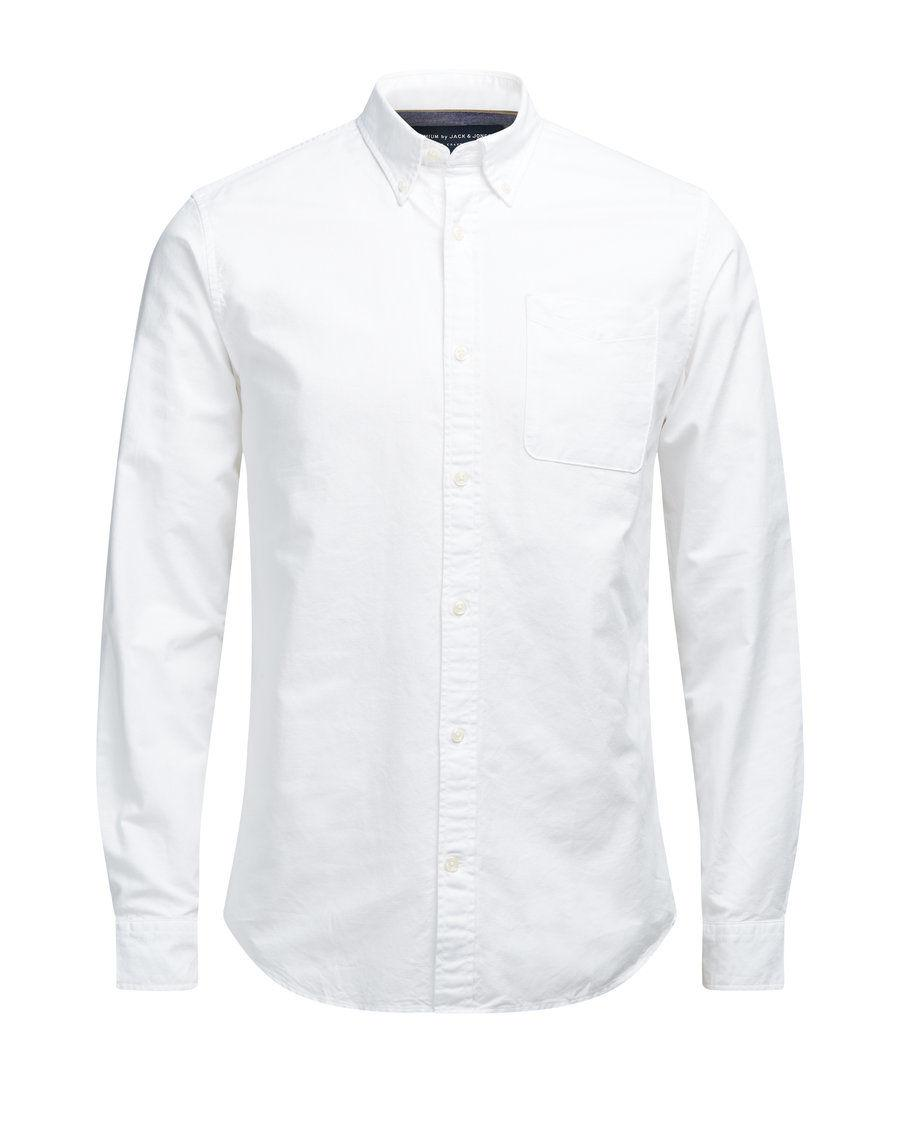teeshirt: (83, 63, 810, 1041)
